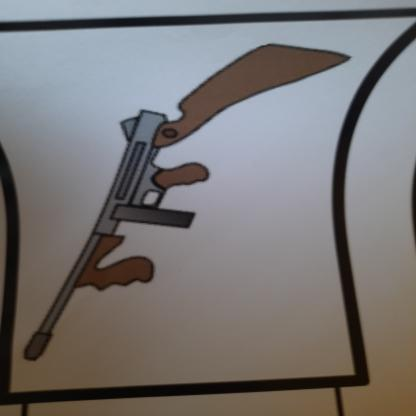Bootlegger: (22, 45, 364, 373)
